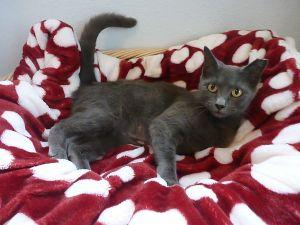rblue: (192, 42, 266, 126)
